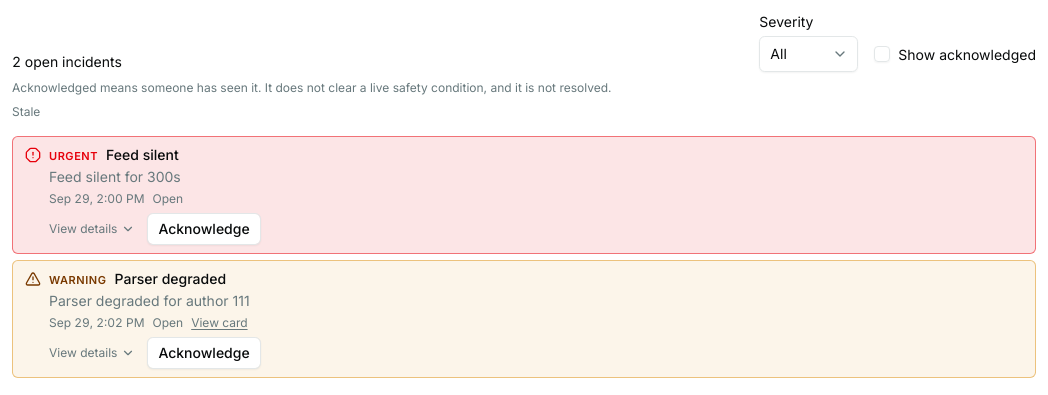
Test case: AlertList › acknowledging removes the alert from the open list; it reappears under show acknowledged
Expected: the text "Feed silent for 300s" is shown, [49,168,181,185]
What coordinates should you click on to do the following:
click the button "Acknowledge" below "Sep 29, 2:00 PM"
I would click on:
 (204, 229)
Its box is [147,213,261,245].
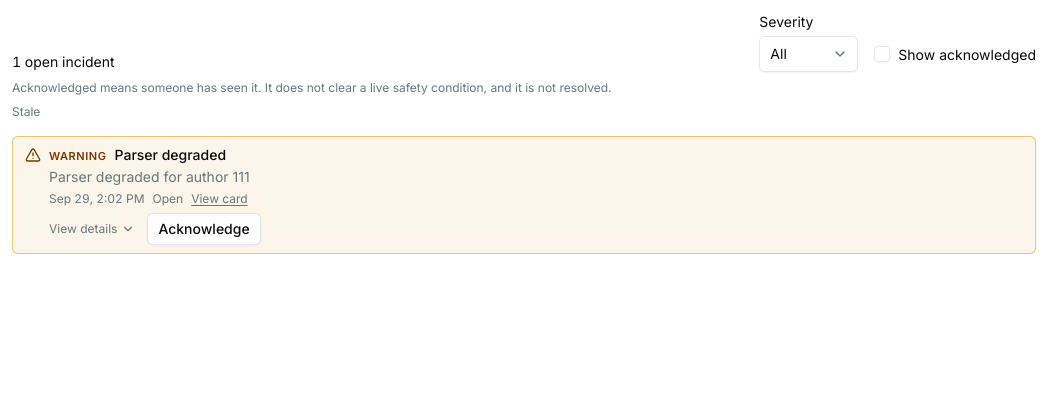
Expected: the text "Parser degraded for author 111" is shown, [49,168,250,185]
Now the text "Feed silent for 300s" is gone
What coordinates should you click on to do the following:
click the checkbox named "Show acknowledged"
I would click on:
 (882, 54)
Its box is [874,46,890,62].
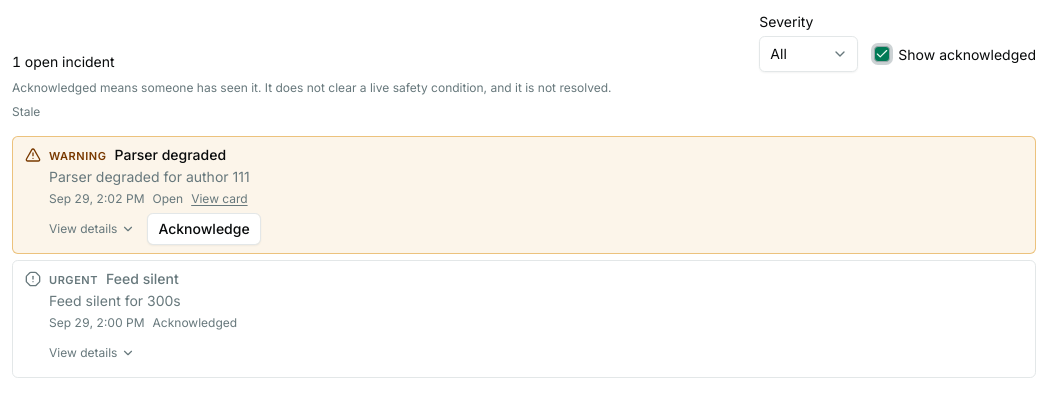
Now the number of buttons "Acknowledge" is 1, box [147,213,261,245]
Now the text "Feed silent for 300s" is shown, box [49,292,181,309]
Now the text "Acknowledged" is shown, box [153,315,237,331]
